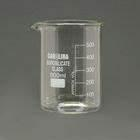Beaker: (28, 10, 105, 118)
